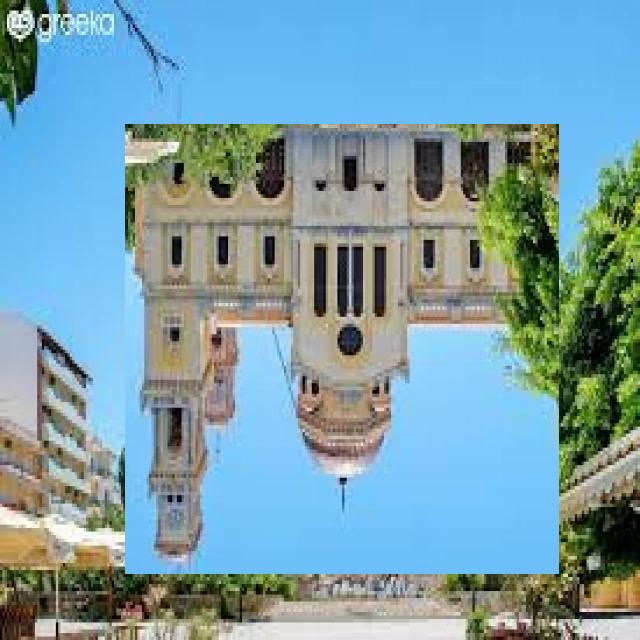Agios Minas: (126, 125, 560, 575)
